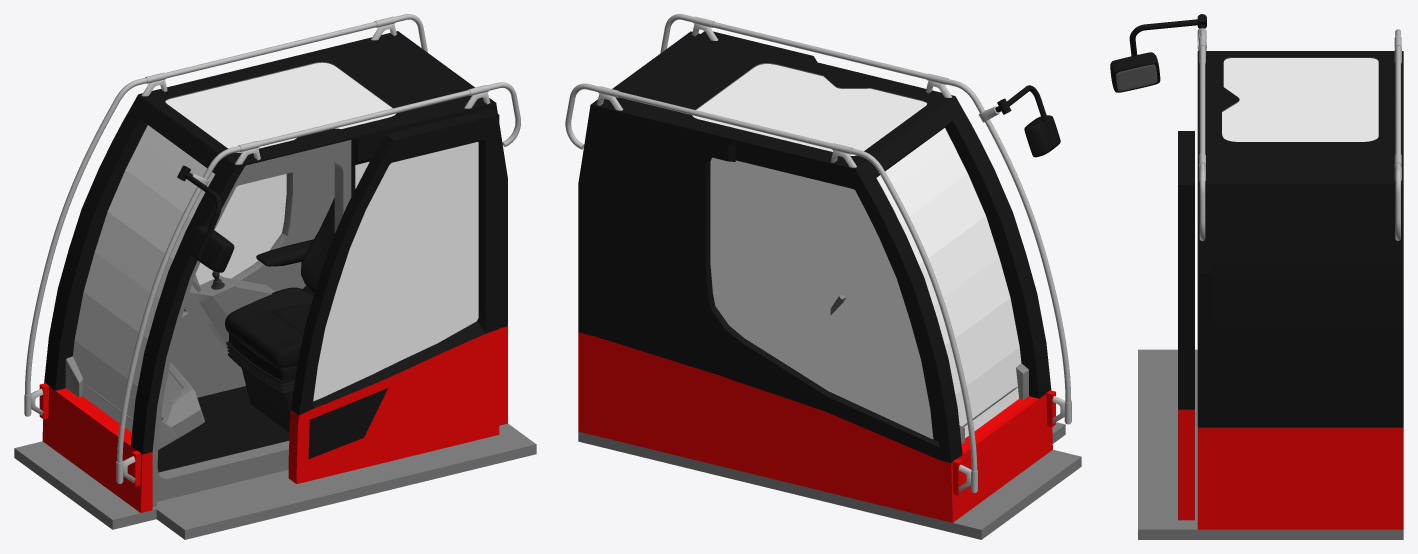
Rendered from Liccon 3 Cabin 001.fbx.
3 views of the same model, side by side, from view 1: azimuth 30°, elevation 25°; view 2: azimuth 150°, elevation 25°; view 3: azimuth 270°, elevation 25° (orthographic). The views are drawn at different scales.
Parts seen in each view (by area): view 1: cabin cabin, cabin glass, cabin door, cabin chair, cabin arm control; view 2: cabin cabin, cabin glass, cabin door; view 3: cabin cabin, cabin glass, cabin door.
Part boxes in pixels (box(x1,y1,x2,y2)): cabin cabin: box(14, 14, 536, 539); cabin glass: box(73, 62, 478, 432); cabin door: box(288, 109, 499, 483); cabin chair: box(225, 198, 334, 432); cabin arm control: box(184, 275, 275, 349); cabin cabin: box(565, 14, 1081, 539); cabin glass: box(692, 64, 1021, 438); cabin door: box(701, 31, 816, 61); cabin cabin: box(1110, 14, 1403, 539); cabin glass: box(1222, 58, 1378, 141); cabin door: box(1178, 131, 1194, 520).
Size of the model in its own units: 216 by 127 by 177.
